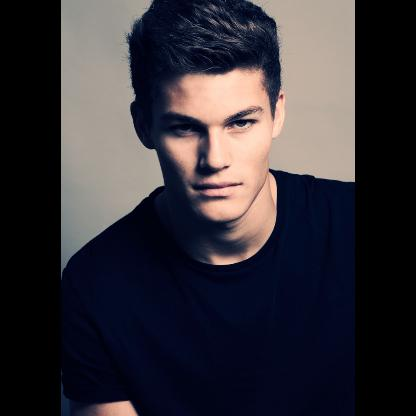Male: (127, 67, 285, 220)
